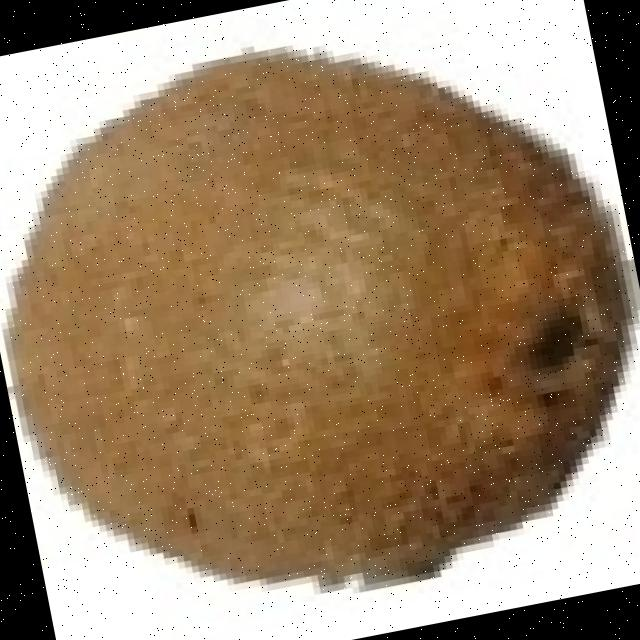kiwi: (0, 47, 614, 574)
